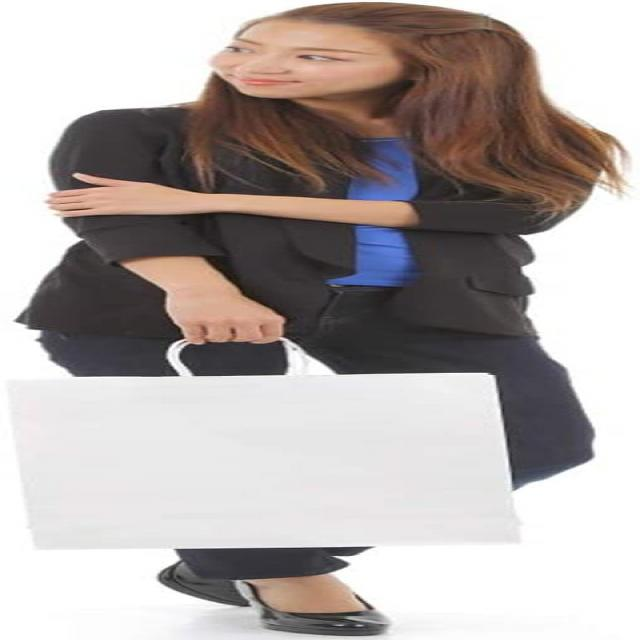paper bag: (2, 333, 534, 553)
